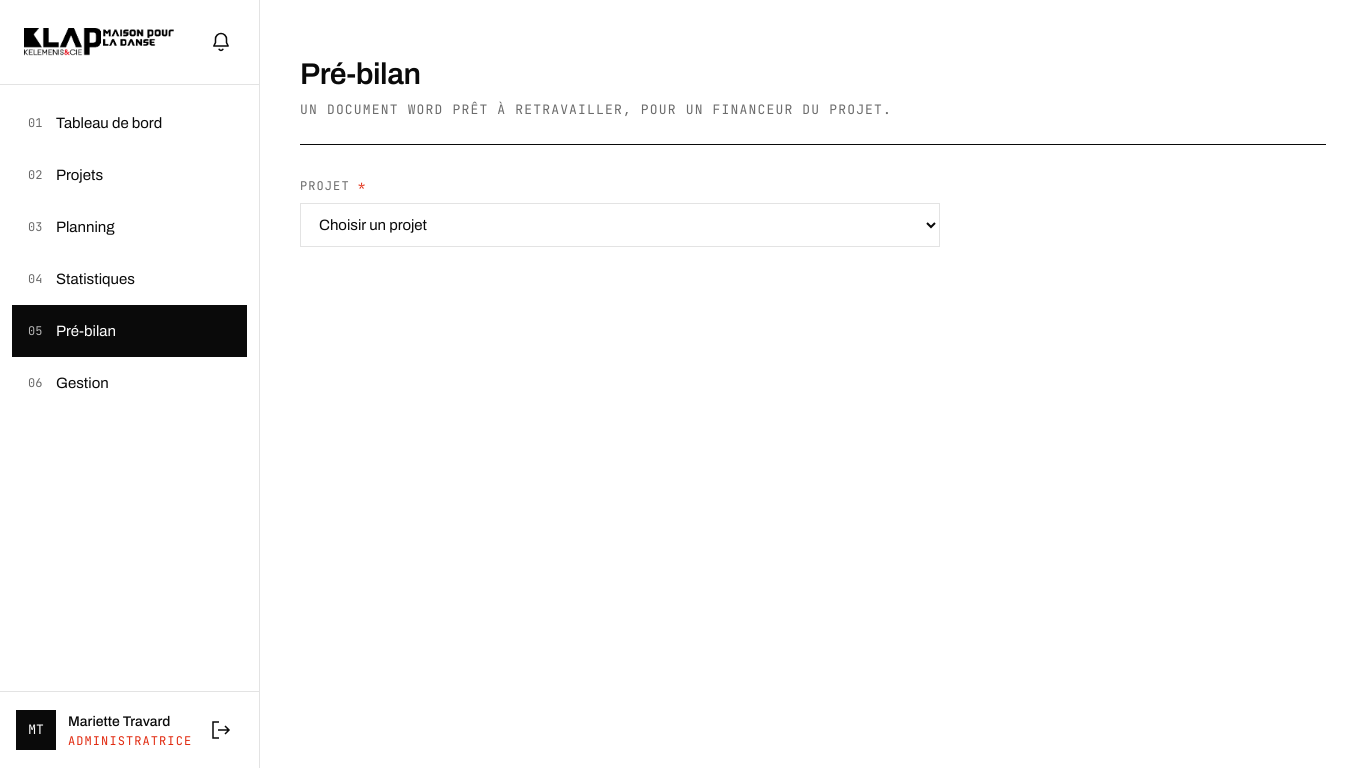
Test case: Pré-bilan › télécharge le Word du financeur choisi, sur la période donnée
Expected: the heading "Pré-bilan" is shown, x1=300 y1=58 x2=420 y2=90
Select "Arts Danse au Lycée Charles" in the dropdown labelled "Projet *": (620, 224) x1=300 y1=202 x2=940 y2=246
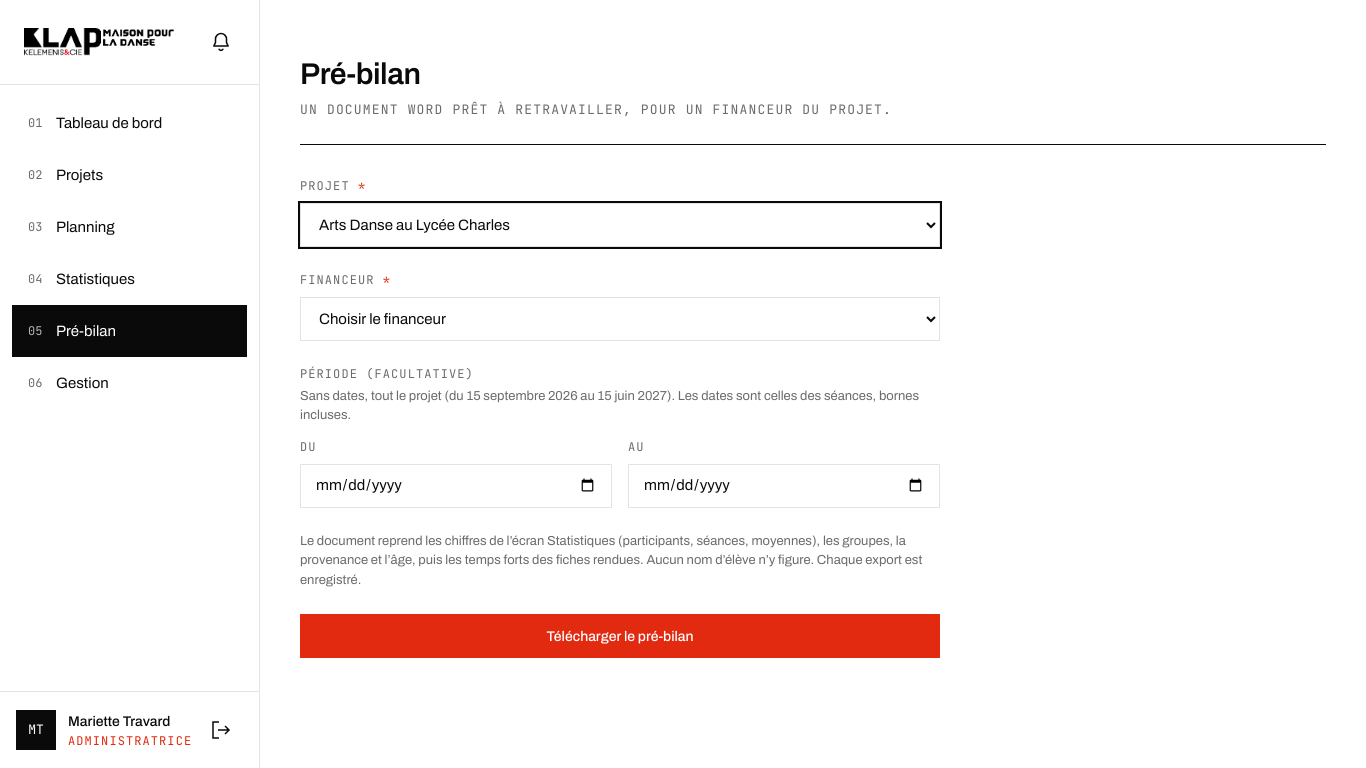
Select "DRAC" in the dropdown labelled "Financeur *": (620, 318) x1=300 y1=296 x2=940 y2=340
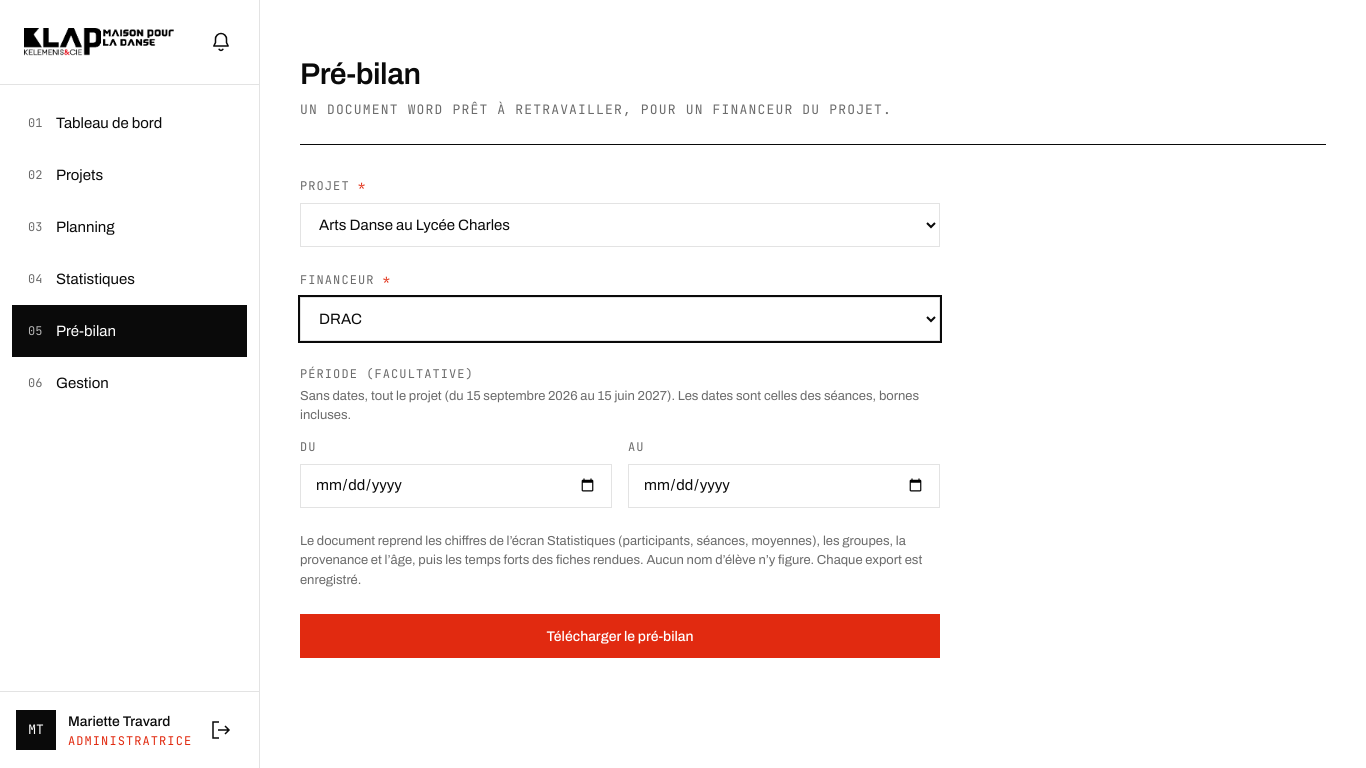
In the date field labelled "Du": (456, 486) x1=300 y1=464 x2=612 y2=508, type "2026-09-01"
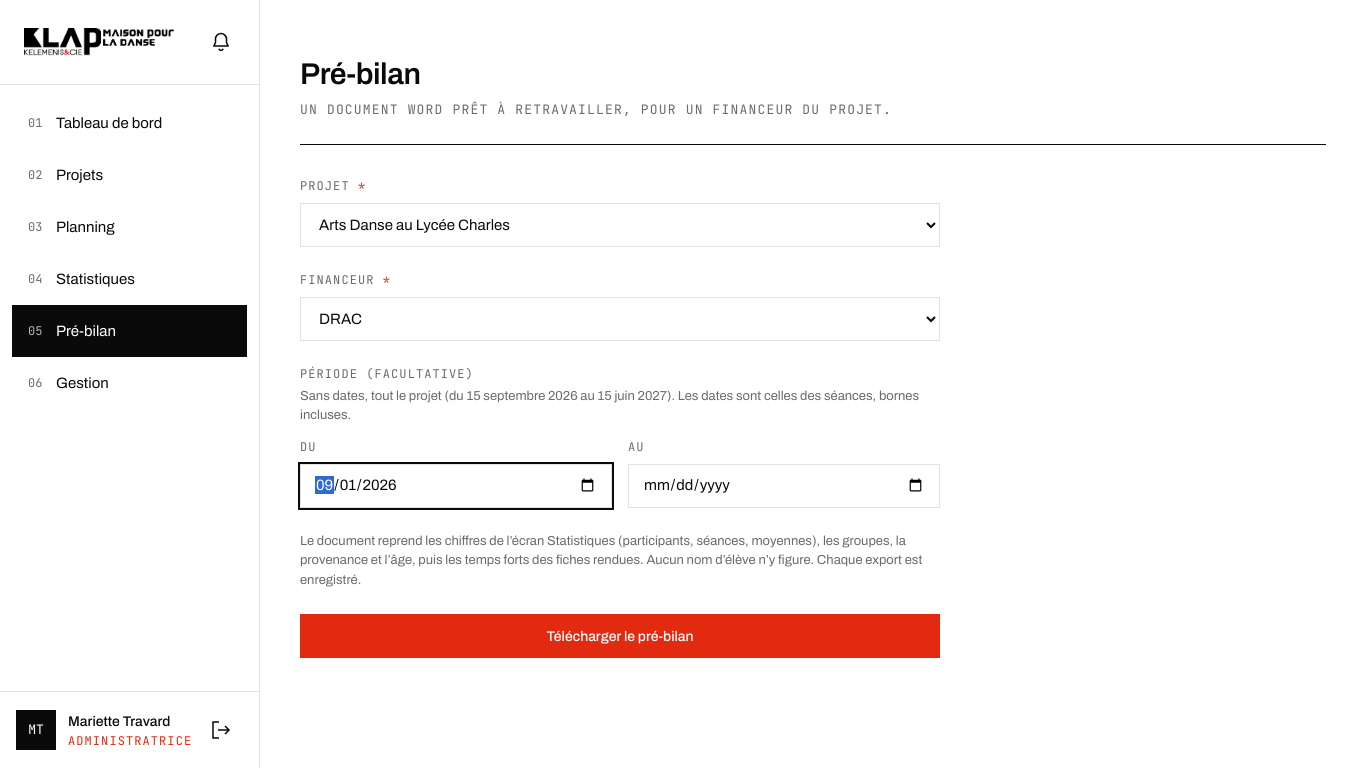
In the date field labelled "Au": (784, 486) x1=628 y1=464 x2=940 y2=508, type "2026-12-31"
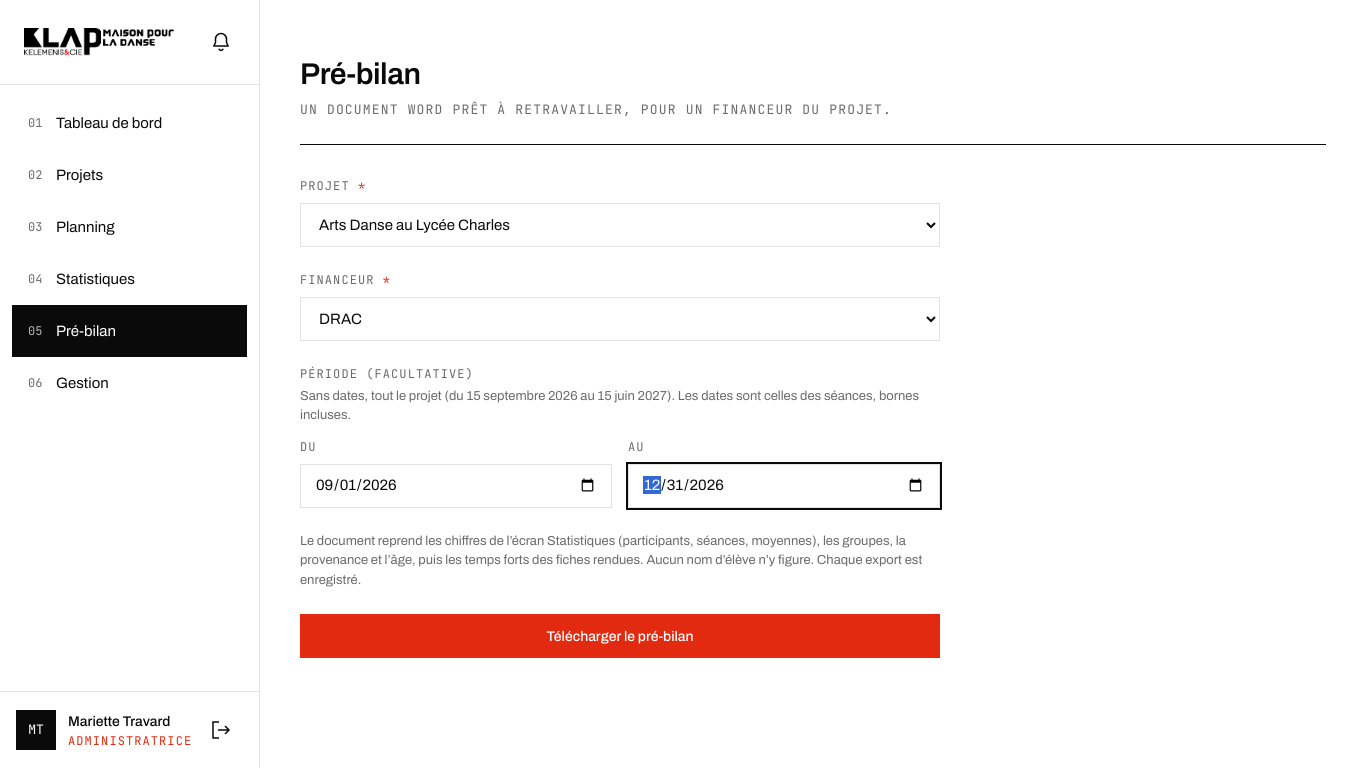
Click the button "Télécharger le pré-bilan": (620, 636) x1=300 y1=614 x2=940 y2=658
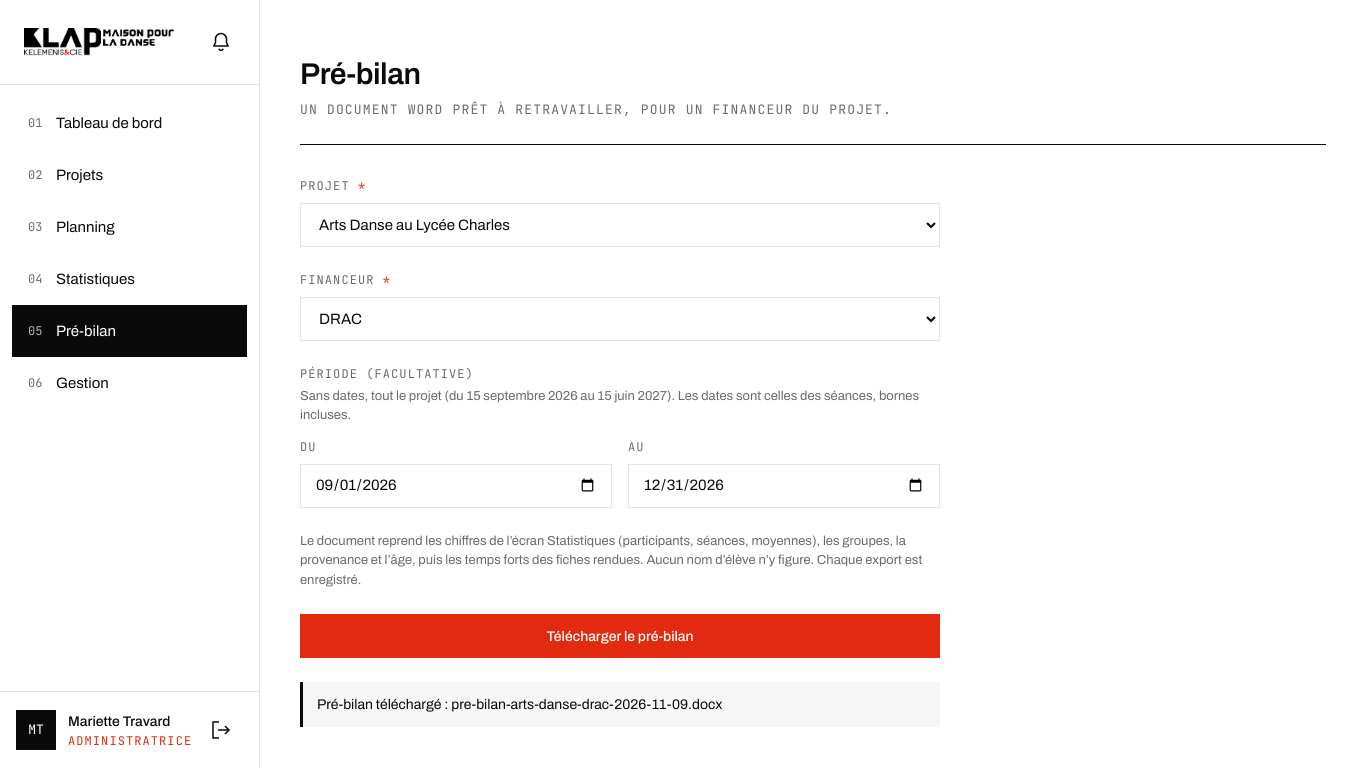
Now the text "du 15 septembre 2026 au 15 juin 2027" is shown, box x1=442 y1=388 x2=672 y2=402
Now the message reads "Pré-bilan téléchargé : pre-bilan-arts-danse-drac-2026-11-09.docx", box x1=317 y1=697 x2=722 y2=712
